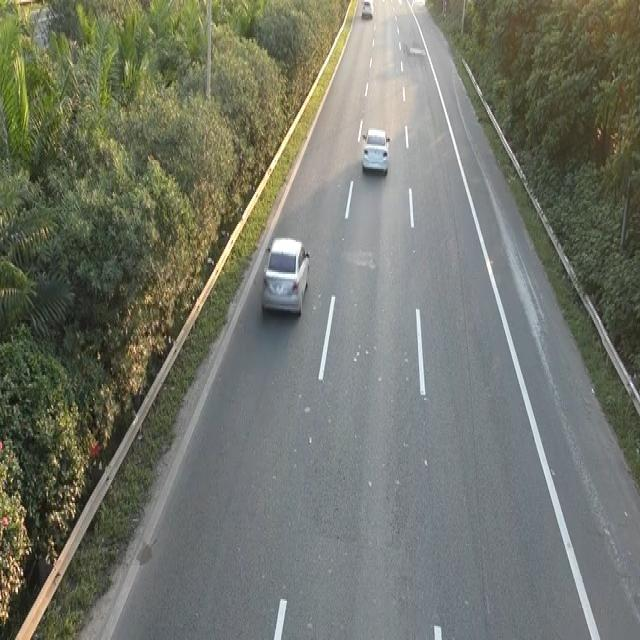bus: (259, 233, 311, 318), (359, 123, 391, 176)
